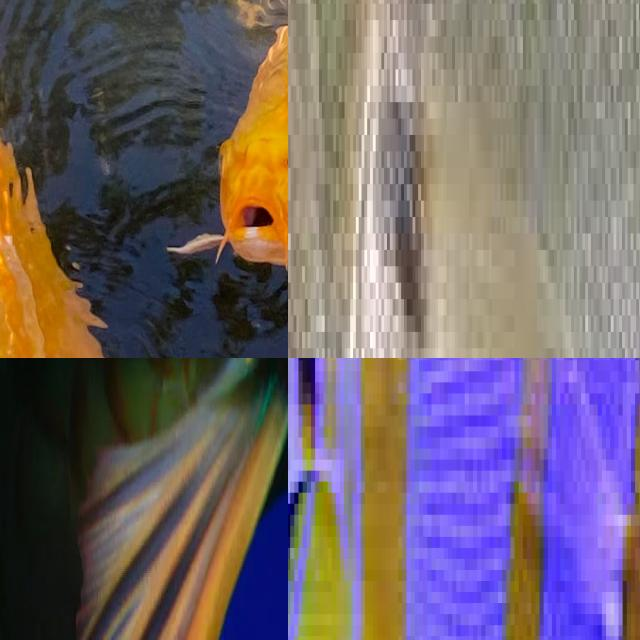fish: (288, 0, 640, 358), (0, 0, 288, 358), (0, 358, 288, 640), (394, 358, 640, 592)
